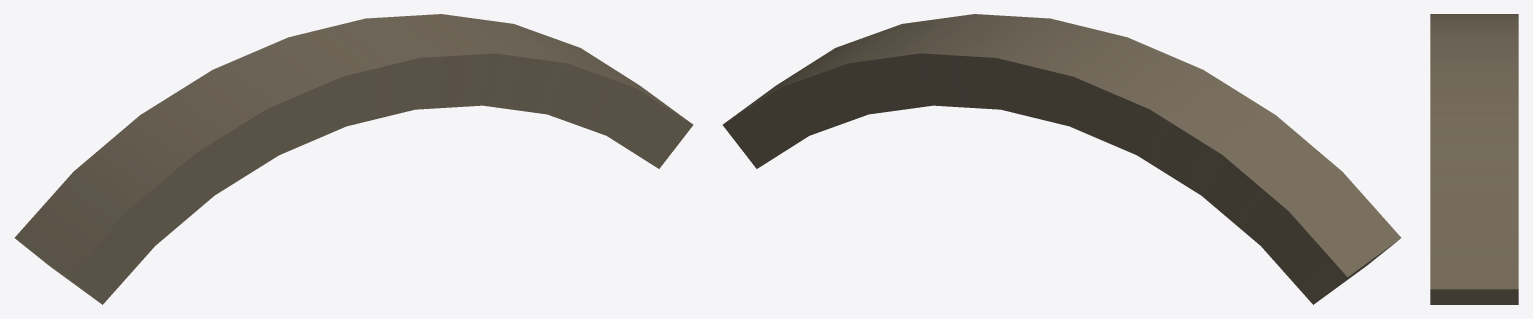
The model's file is SM_Wall_4.FBX.
3 renders of one model, left to right at view 1: azimuth 30°, elevation 25°; view 2: azimuth 150°, elevation 25°; view 3: azimuth 270°, elevation 25°, orthographic. The views are drawn at different scales.
Parts seen in each view (by area): view 1: SM_Wall_4; view 2: SM_Wall_4; view 3: SM_Wall_4.
Boxes of the visible parts, x1=… form: SM_Wall_4: x1=14, y1=14, x2=693, y2=304; SM_Wall_4: x1=722, y1=14, x2=1401, y2=304; SM_Wall_4: x1=1430, y1=14, x2=1518, y2=304.
Size of what is drawn, in the model's own units: 450 by 67.19 by 117.
